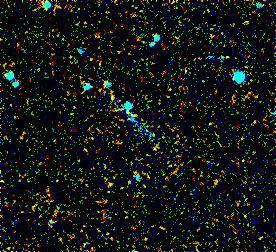star: (99, 84, 129, 114)
